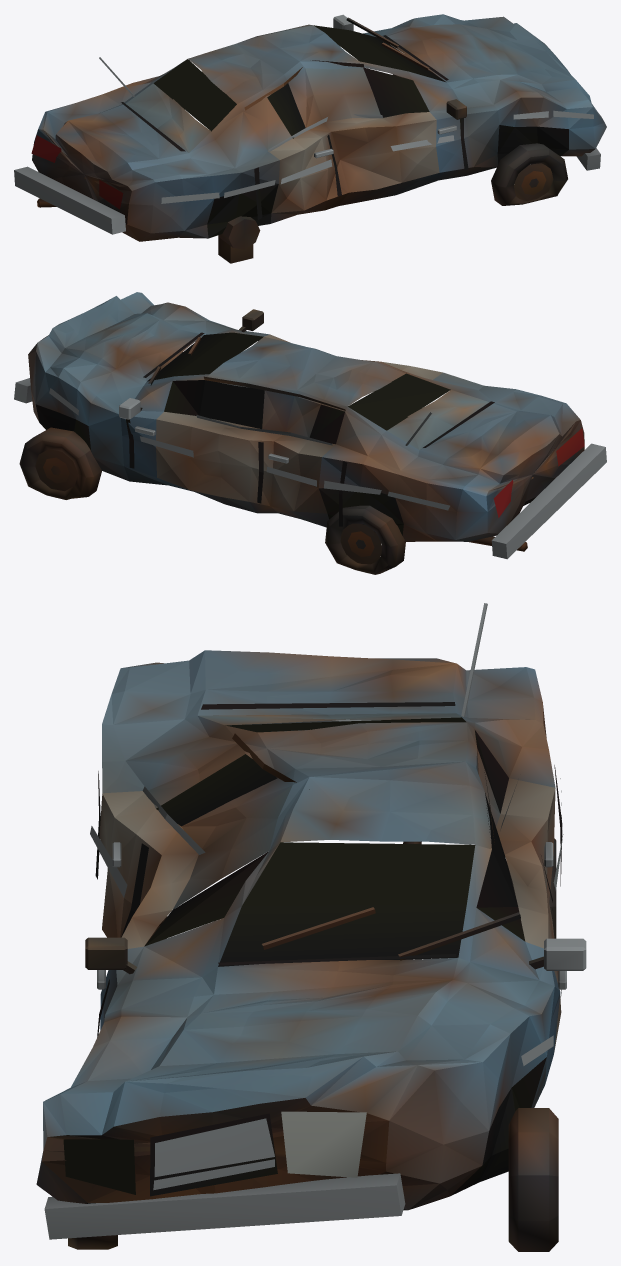
File: wreck_a.glb
3 renders of one model, top to bottom at view 1: azimuth 30°, elevation 25°; view 2: azimuth 150°, elevation 25°; view 3: azimuth 270°, elevation 25°, orthographic. The views are drawn at different scales.
Parts seen in each view (by area): view 1: WreckA; view 2: WreckA; view 3: WreckA.
Boxes of the visible parts, x1=… form: WreckA: x1=14, y1=14, x2=606, y2=263; WreckA: x1=14, y1=292, x2=606, y2=574; WreckA: x1=36, y1=603, x2=586, y2=1251.
Bounding box in the file's own units: 4.34 × 1.26 × 2.11.
